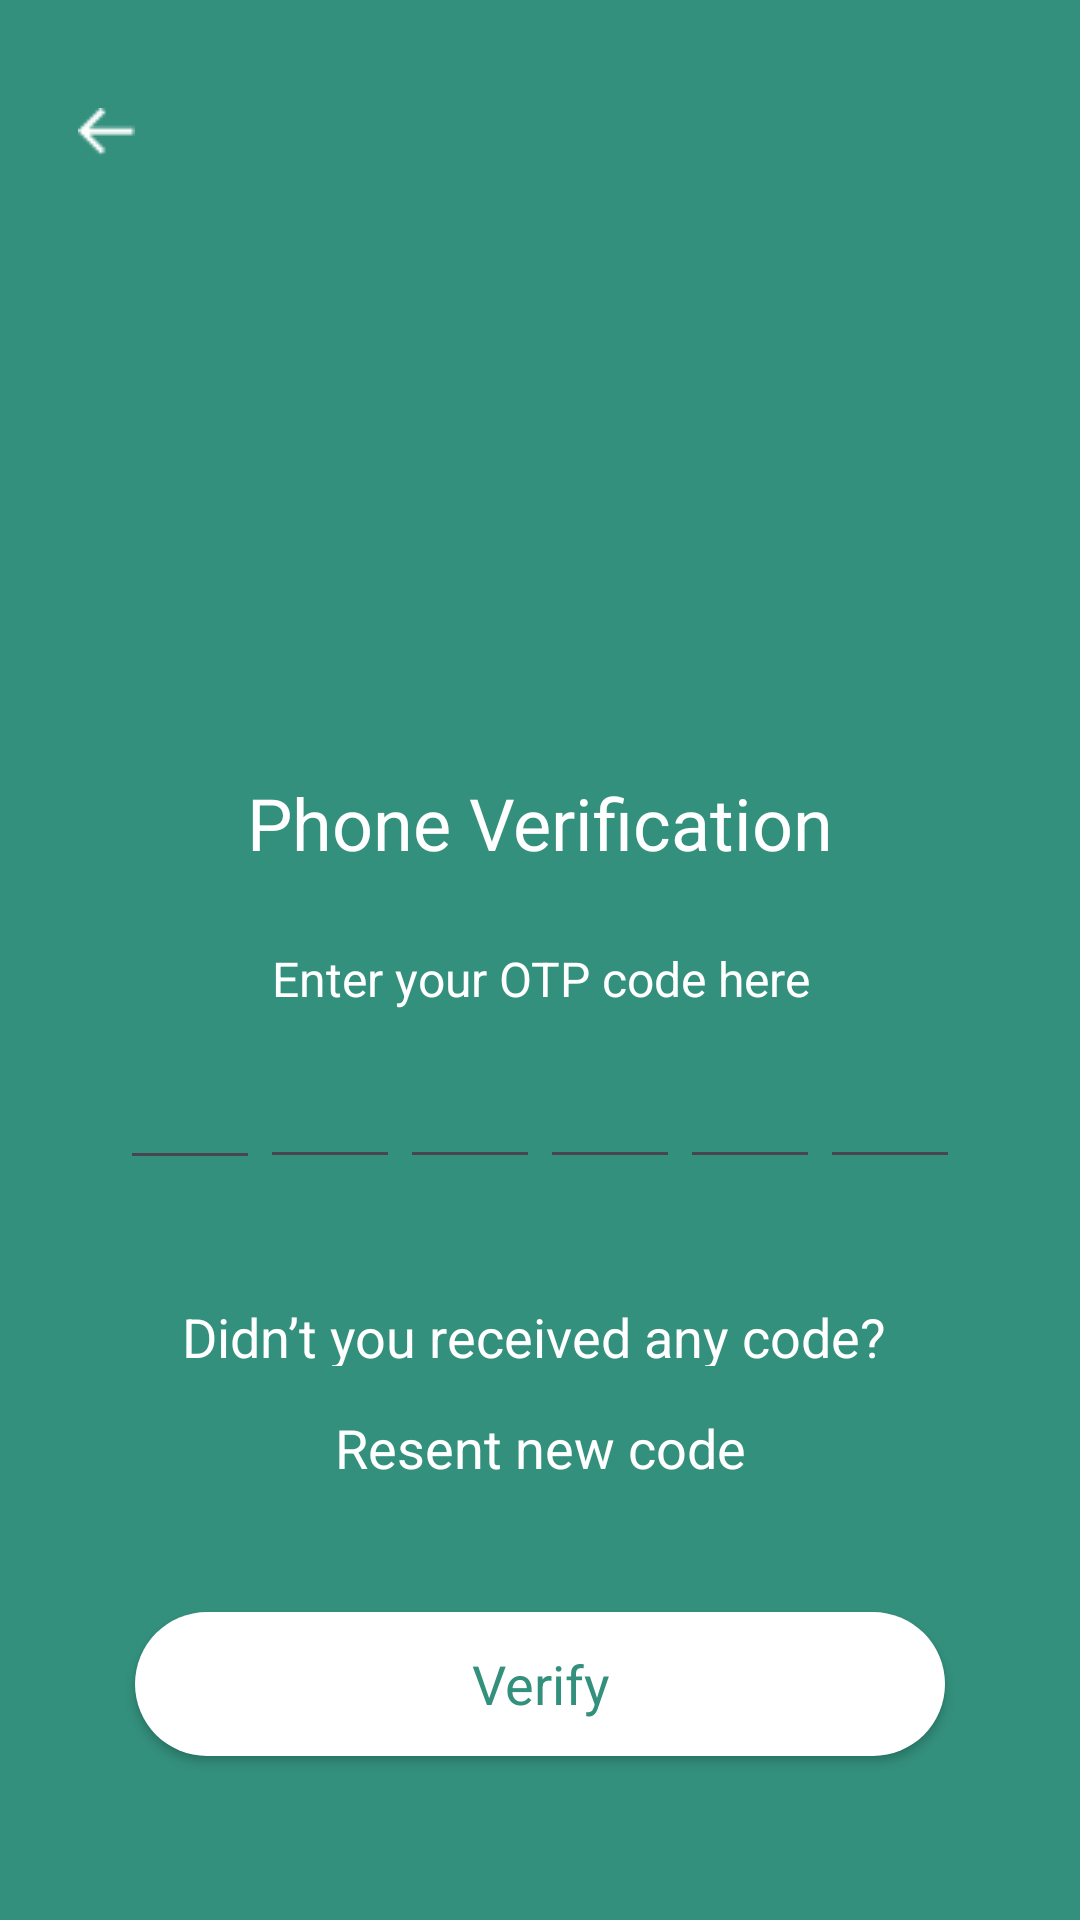

Locate icon controls on the screen. Image size 1080px×1920px, boxes as (x1, y1, x2, y2).
Back: (78, 108, 135, 154)
